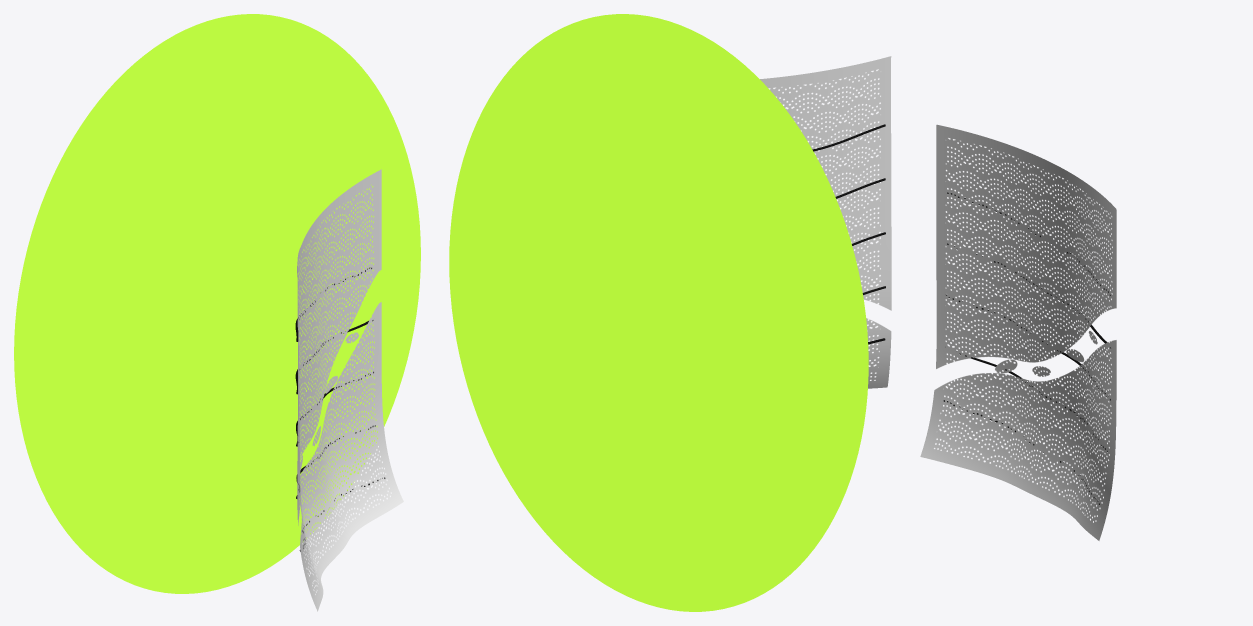
3 views of the same model, side by side, from view 1: azimuth 30°, elevation 25°; view 2: azimuth 150°, elevation 25°; view 3: azimuth 270°, elevation 25° (orthographic). The views are drawn at different scales.
Visible parts, largest first — view 1: hikari, katagami; view 2: hikari, katagami; view 3: katagami.
Part boxes in pixels (left/top/right/bottom): hikari: left=14, top=14, right=420, bottom=593; katagami: left=295, top=169, right=403, bottom=611; hikari: left=449, top=14, right=868, bottom=611; katagami: left=760, top=56, right=891, bottom=388; katagami: left=920, top=124, right=1116, bottom=540.
Size of the model in its own units: 2.28 by 3.06 by 1.56.
Materials: 3 (1 with a texture image).
